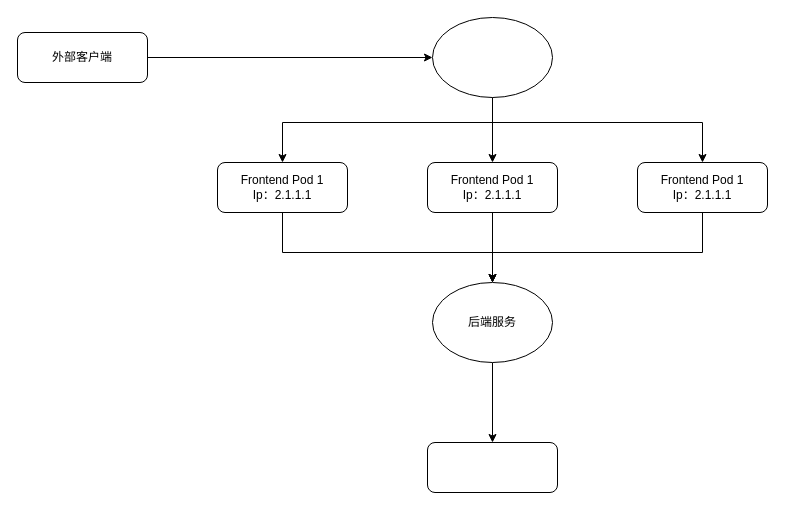
The diagram is 785 pixels wide and 510 high, and some of its shapes have lost their labels. Each missing label, with the centre of its shape:
Backend Pod Ip 2.1.1.4: point (492, 467)
前端服务: point (492, 57)
